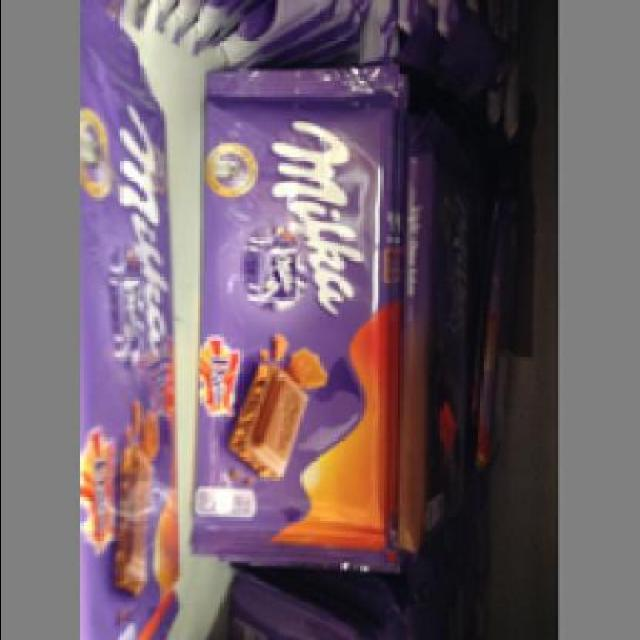Chocolate bar: (191, 53, 409, 570), (82, 2, 186, 636)
